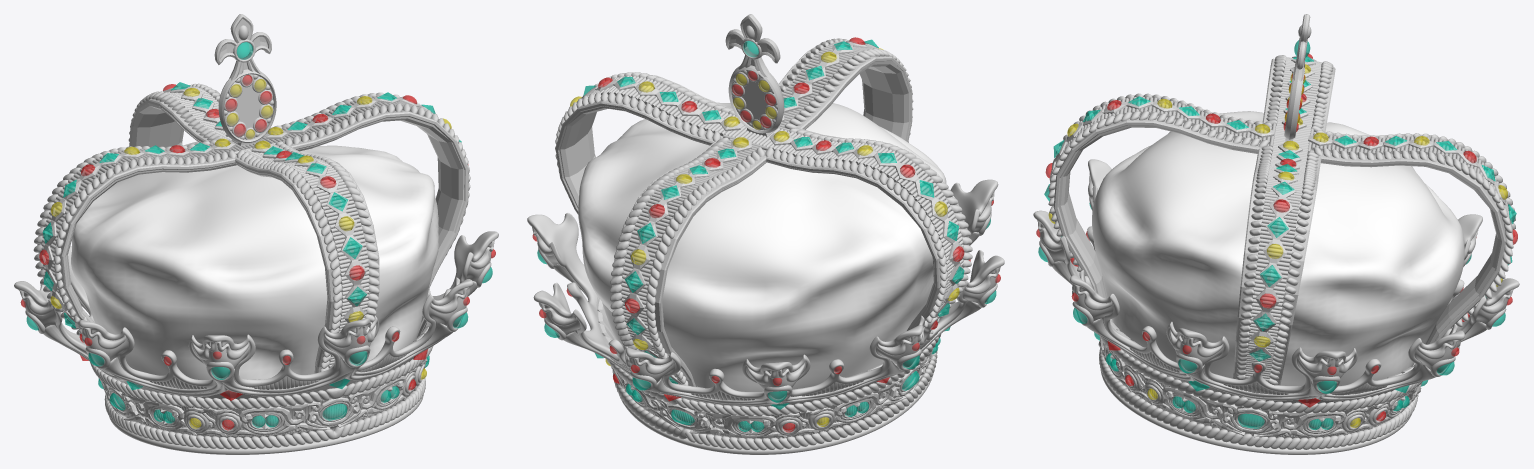
File: Crownhat.glb
3 renders of one model, left to right at view 1: azimuth 30°, elevation 25°; view 2: azimuth 150°, elevation 25°; view 3: azimuth 270°, elevation 25°, orthographic.
Parts seen in each view (by area): view 1: Cloth04, Gold_venec04, Gold_adornments04, objObject117, emeralds04, rubbin04, Yellows04; view 2: Cloth04, Gold_venec04, Gold_adornments04, objObject117, emeralds04, rubbin04, Yellows04; view 3: Cloth04, Gold_venec04, Gold_adornments04, emeralds04, objObject117, rubbin04, Yellows04.
Part boxes in pixels (bbox=[...]): Cloth04: bbox=[71, 141, 438, 379]; Gold_venec04: bbox=[14, 83, 498, 454]; Gold_adornments04: bbox=[37, 14, 468, 437]; objObject117: bbox=[66, 103, 464, 373]; emeralds04: bbox=[26, 42, 492, 427]; rubbin04: bbox=[20, 75, 495, 430]; Yellows04: bbox=[50, 79, 451, 428]; Cloth04: bbox=[578, 102, 946, 391]; Gold_venec04: bbox=[527, 38, 1004, 454]; Gold_adornments04: bbox=[555, 14, 968, 438]; objObject117: bbox=[559, 61, 934, 386]; emeralds04: bbox=[537, 39, 996, 432]; rubbin04: bbox=[532, 37, 1000, 432]; Yellows04: bbox=[570, 48, 959, 426]; Cloth04: bbox=[1092, 111, 1464, 386]; Gold_venec04: bbox=[1033, 55, 1519, 454]; Gold_adornments04: bbox=[1049, 14, 1512, 437]; emeralds04: bbox=[1038, 40, 1516, 430]; objObject117: bbox=[1058, 125, 1500, 344]; rubbin04: bbox=[1036, 53, 1517, 421]; Yellows04: bbox=[1048, 64, 1507, 427].
Bounding box in the file's own units: 1.2 × 1.08 × 1.22.
